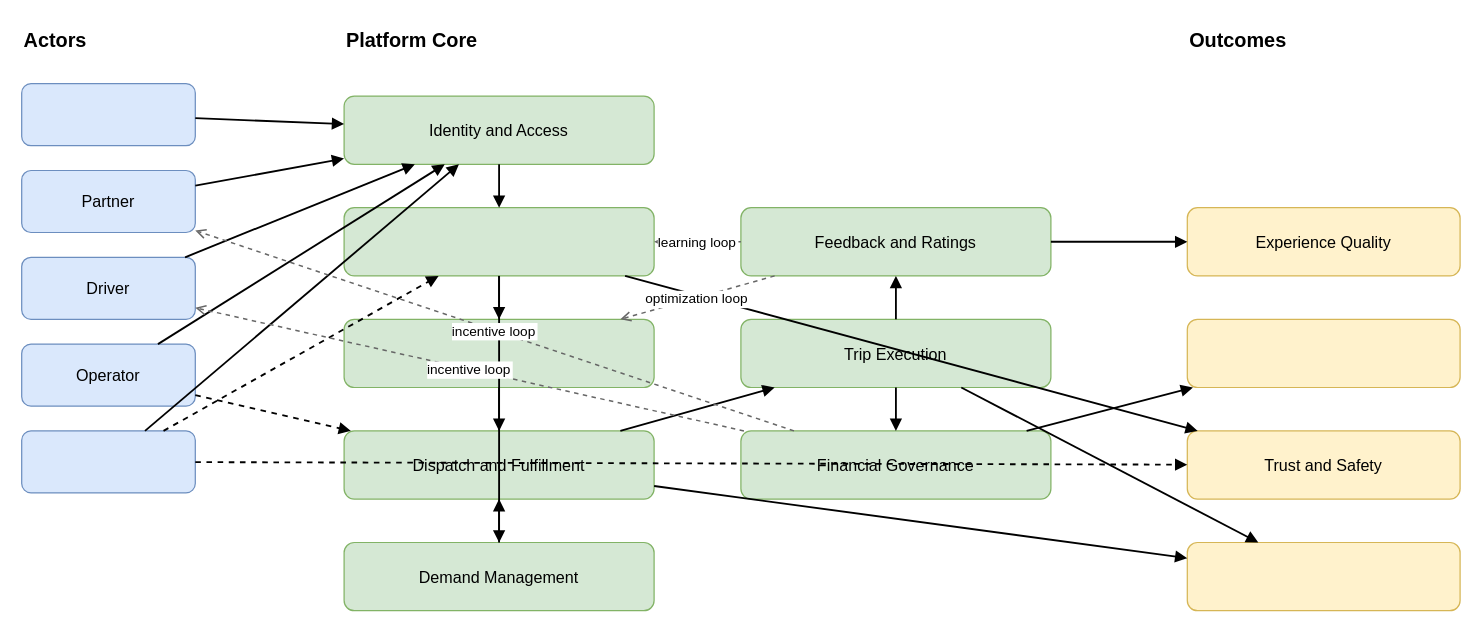
This 1482x632 diagram has some shape labels left out. Each missing label, with the centre of its shape:
"Admin" goes at point (107, 461).
"Economic Value" goes at point (1323, 353).
"Renter" goes at point (107, 114).
"Service Reliability" goes at point (1323, 576).
"Supply Management" goes at point (498, 353).
"Verification and Trust" goes at point (498, 241).
